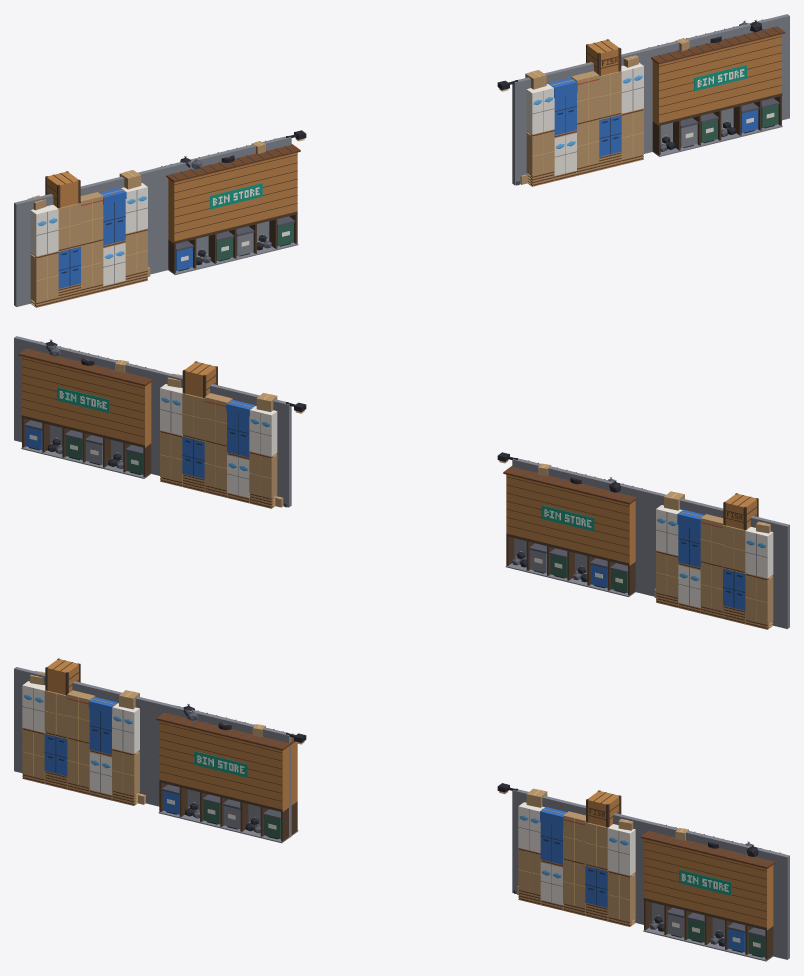
The model's file is CatCafe_Alley_Blocker_RowCamp.glb.
3 renders of one model, top to bottom at view 1: azimuth 30°, elevation 25°; view 2: azimuth 150°, elevation 25°; view 3: azimuth 330°, elevation 25°, orthographic.
Parts seen in each view (by area): view 1: CatCafe_Alley_Blocker_RowCamp_003_Blocker_Bins, CatCafe_Alley_Blocker_RowCamp_000_Blocker_Bins, CatCafe_Alley_Blocker_RowCamp_001_Blocker_Pallets, CatCafe_Alley_Blocker_RowCamp_002_Blocker_Pallets, CatCafe_Alley_Blocker_RowCamp_001_Blocker_Pallets_Barrier, CatCafe_Alley_Blocker_RowCamp_002_Blocker_Pallets_Barrier, CatCafe_Alley_Blocker_RowCamp_003_Blocker_Bins_Barrier, CatCafe_Alley_Blocker_RowCamp_000_Blocker_Bins_Barrier; view 2: CatCafe_Alley_Blocker_RowCamp_000_Blocker_Bins, CatCafe_Alley_Blocker_RowCamp_003_Blocker_Bins, CatCafe_Alley_Blocker_RowCamp_001_Blocker_Pallets, CatCafe_Alley_Blocker_RowCamp_002_Blocker_Pallets, CatCafe_Alley_Blocker_RowCamp_001_Blocker_Pallets_Barrier, CatCafe_Alley_Blocker_RowCamp_002_Blocker_Pallets_Barrier, CatCafe_Alley_Blocker_RowCamp_003_Blocker_Bins_Barrier, CatCafe_Alley_Blocker_RowCamp_000_Blocker_Bins_Barrier; view 3: CatCafe_Alley_Blocker_RowCamp_003_Blocker_Bins, CatCafe_Alley_Blocker_RowCamp_000_Blocker_Bins, CatCafe_Alley_Blocker_RowCamp_002_Blocker_Pallets, CatCafe_Alley_Blocker_RowCamp_001_Blocker_Pallets, CatCafe_Alley_Blocker_RowCamp_000_Blocker_Bins_Barrier, CatCafe_Alley_Blocker_RowCamp_002_Blocker_Pallets_Barrier, CatCafe_Alley_Blocker_RowCamp_003_Blocker_Bins_Barrier, CatCafe_Alley_Blocker_RowCamp_001_Blocker_Pallets_Barrier.
Part boxes in pixels (box(x1,y1,x2,y2)): CatCafe_Alley_Blocker_RowCamp_003_Blocker_Bins: box(161, 138, 300, 274); CatCafe_Alley_Blocker_RowCamp_000_Blocker_Bins: box(646, 19, 785, 156); CatCafe_Alley_Blocker_RowCamp_001_Blocker_Pallets: box(520, 39, 643, 186); CatCafe_Alley_Blocker_RowCamp_002_Blocker_Pallets: box(28, 170, 150, 307); CatCafe_Alley_Blocker_RowCamp_001_Blocker_Pallets_Barrier: box(512, 47, 652, 185); CatCafe_Alley_Blocker_RowCamp_002_Blocker_Pallets_Barrier: box(14, 169, 153, 306); CatCafe_Alley_Blocker_RowCamp_003_Blocker_Bins_Barrier: box(152, 136, 291, 273); CatCafe_Alley_Blocker_RowCamp_000_Blocker_Bins_Barrier: box(650, 14, 789, 151); CatCafe_Alley_Blocker_RowCamp_000_Blocker_Bins: box(18, 339, 157, 478); CatCafe_Alley_Blocker_RowCamp_003_Blocker_Bins: box(503, 460, 642, 596); CatCafe_Alley_Blocker_RowCamp_001_Blocker_Pallets: box(160, 361, 283, 508); CatCafe_Alley_Blocker_RowCamp_002_Blocker_Pallets: box(654, 491, 773, 629); CatCafe_Alley_Blocker_RowCamp_001_Blocker_Pallets_Barrier: box(151, 369, 291, 507); CatCafe_Alley_Blocker_RowCamp_002_Blocker_Pallets_Barrier: box(650, 491, 789, 628); CatCafe_Alley_Blocker_RowCamp_003_Blocker_Bins_Barrier: box(512, 458, 651, 595); CatCafe_Alley_Blocker_RowCamp_000_Blocker_Bins_Barrier: box(14, 336, 153, 473); CatCafe_Alley_Blocker_RowCamp_003_Blocker_Bins: box(156, 703, 298, 843); CatCafe_Alley_Blocker_RowCamp_000_Blocker_Bins: box(640, 824, 784, 961); CatCafe_Alley_Blocker_RowCamp_002_Blocker_Pallets: box(22, 658, 145, 805); CatCafe_Alley_Blocker_RowCamp_001_Blocker_Pallets: box(517, 788, 635, 926); CatCafe_Alley_Blocker_RowCamp_000_Blocker_Bins_Barrier: box(650, 822, 789, 959); CatCafe_Alley_Blocker_RowCamp_002_Blocker_Pallets_Barrier: box(14, 667, 153, 804); CatCafe_Alley_Blocker_RowCamp_003_Blocker_Bins_Barrier: box(151, 700, 291, 837); CatCafe_Alley_Blocker_RowCamp_001_Blocker_Pallets_Barrier: box(512, 788, 651, 924).
Size of the model in its own units: 90 by 12.93 by 3.6.
1 material, 1 textured.
